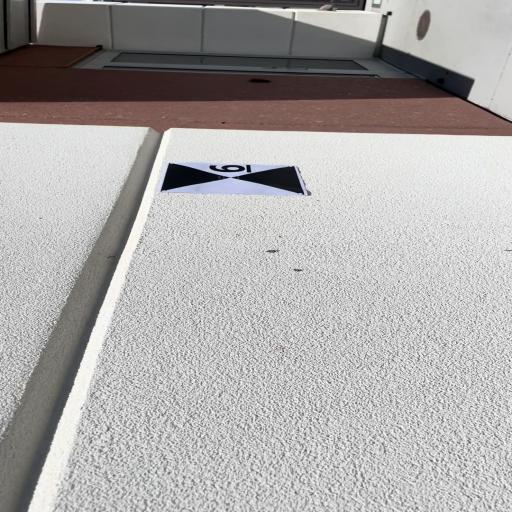target6: (156, 159, 313, 195)
